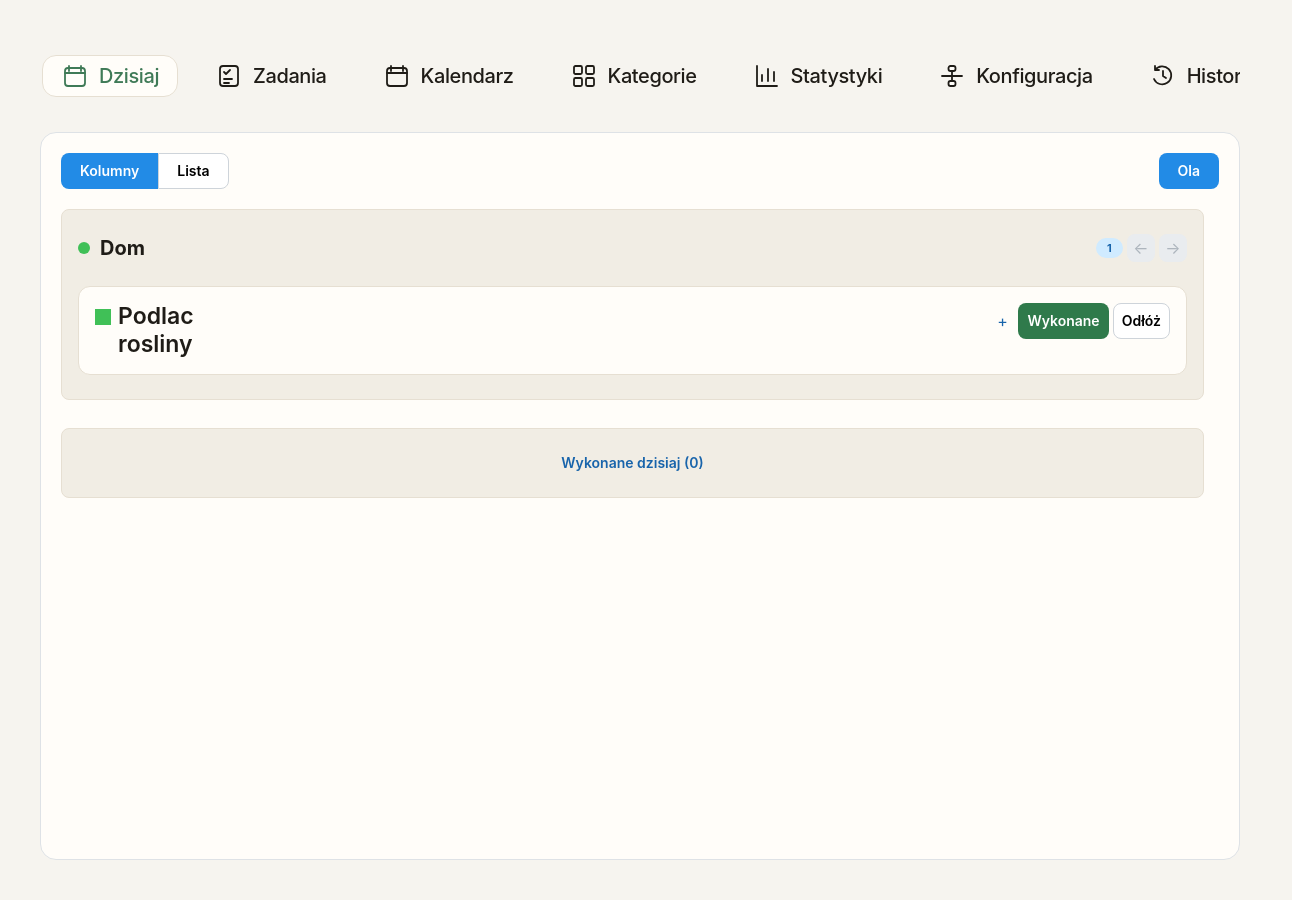
Test: App › marks a task as complete and removes it from today
Click the button "Wykonane" at (1064, 321), box [1018,303,1109,339]
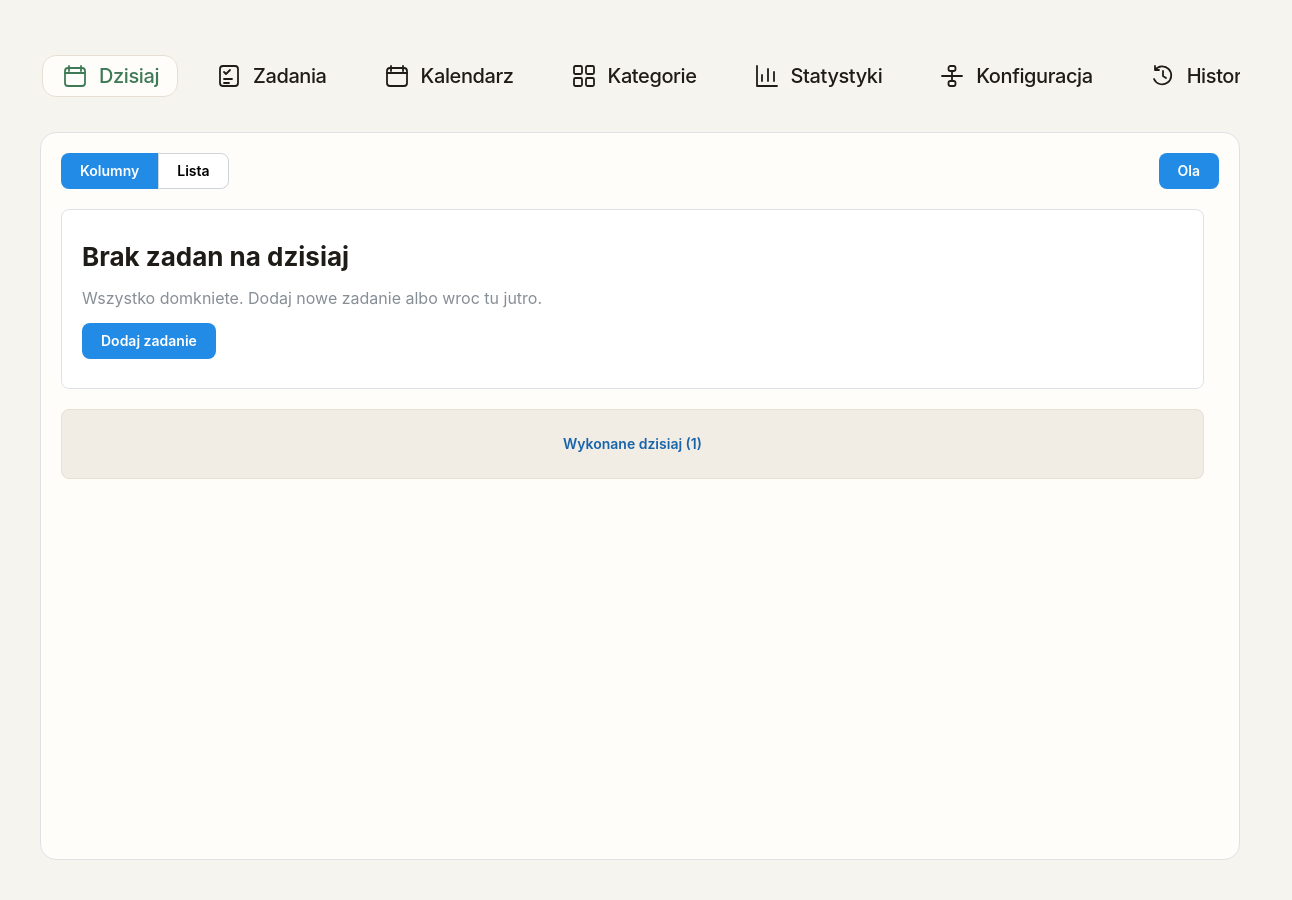
expect the text "Podlac rosliny" is gone: met
expect the heading "Brak zadan na dzisiaj" is shown: met, box [82,239,349,274]
